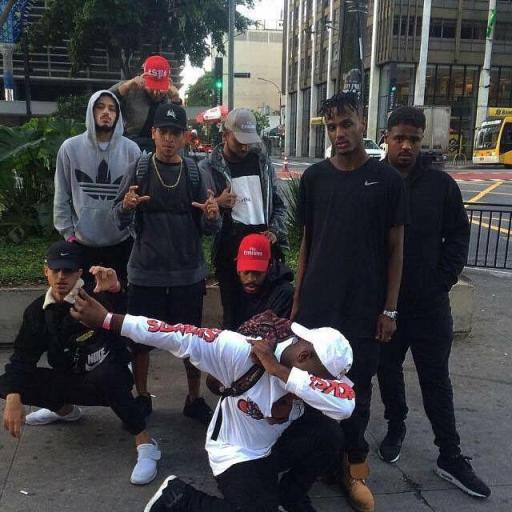Adidas: (72, 158, 126, 202)
